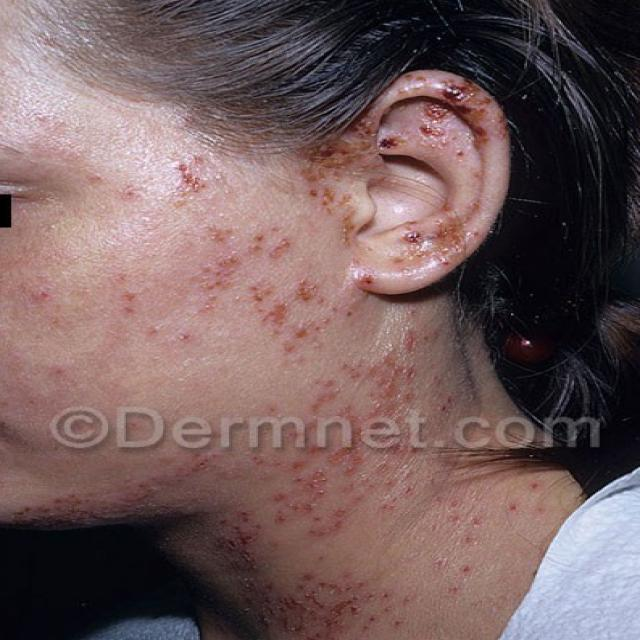Viral Infections: (321, 61, 525, 267), (254, 381, 494, 525), (190, 237, 381, 379), (211, 534, 404, 640), (0, 486, 237, 521), (150, 131, 239, 220), (28, 351, 110, 400), (427, 545, 499, 599)
